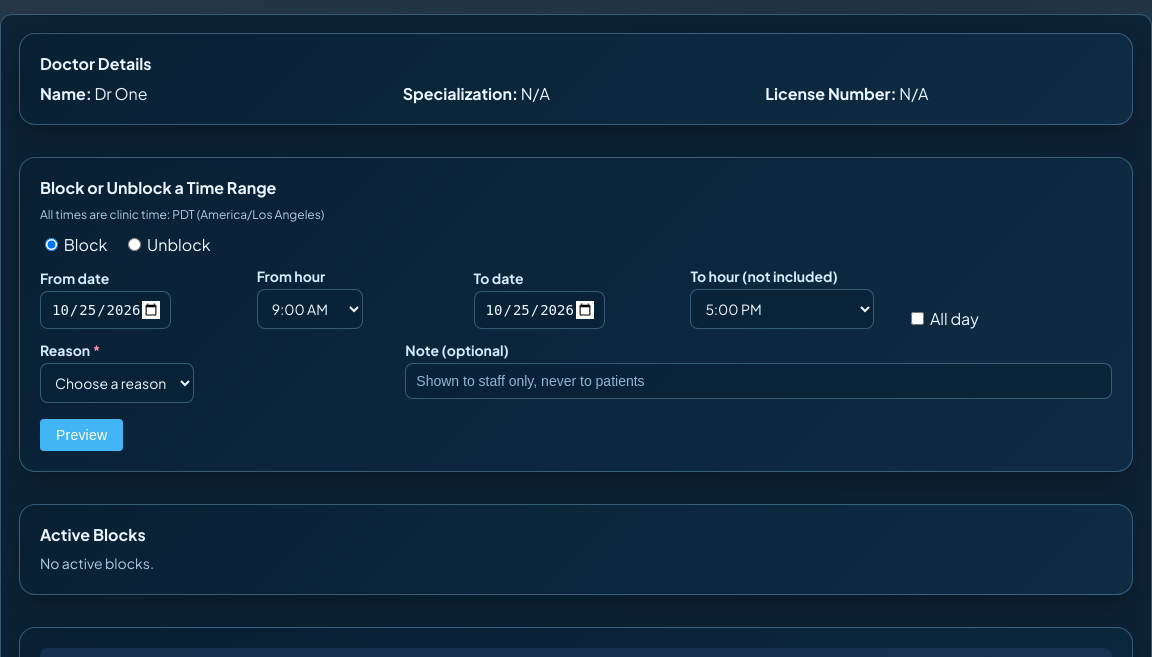
Test: ManageAvailabilityPage range block › needs the conflicts acknowledged before confirming, then applies with the fingerprint
The image size is (1152, 657).
Expected: the heading "Block or Unblock a Time Range" is shown, x1=40 y1=177 x2=276 y2=198
Type "2026-11-03" into the date field labelled "From date".
click(106, 310); type("2026-11-03")  # box x1=40 y1=291 x2=171 y2=329
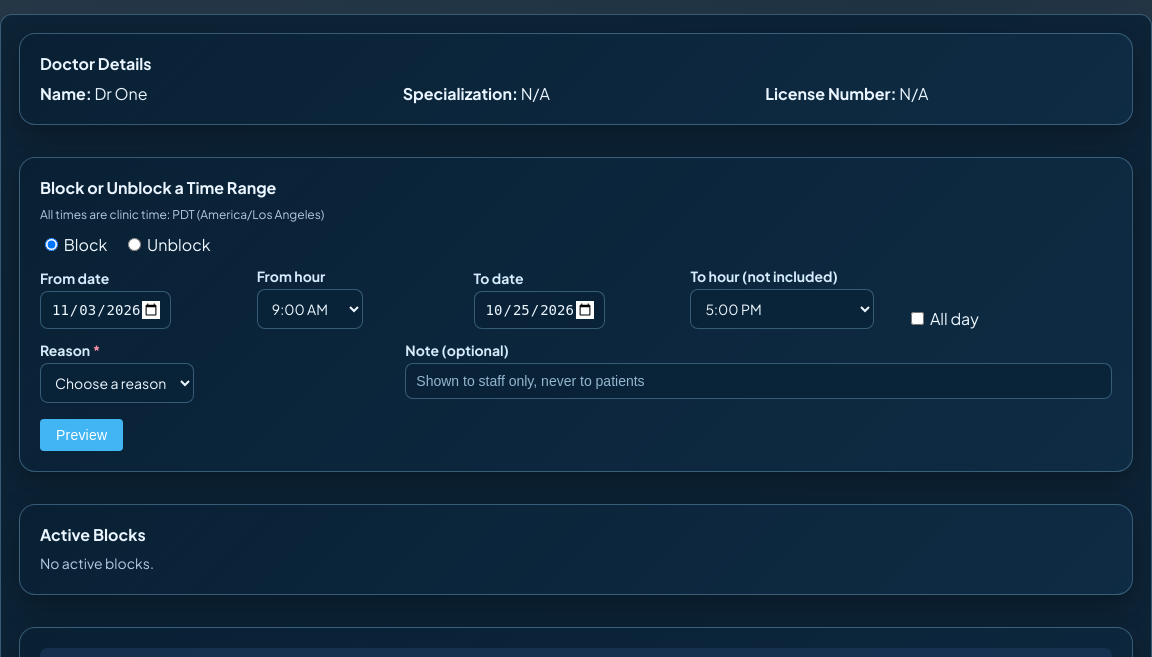
Select "9:00 AM" in the dropdown labelled "From hour" at {"x": 310, "y": 309}, box x1=257 y1=289 x2=363 y2=329
Type "2026-11-05" into the date field labelled "To date".
click(539, 310); type("2026-11-05")  # box x1=474 y1=291 x2=605 y2=329
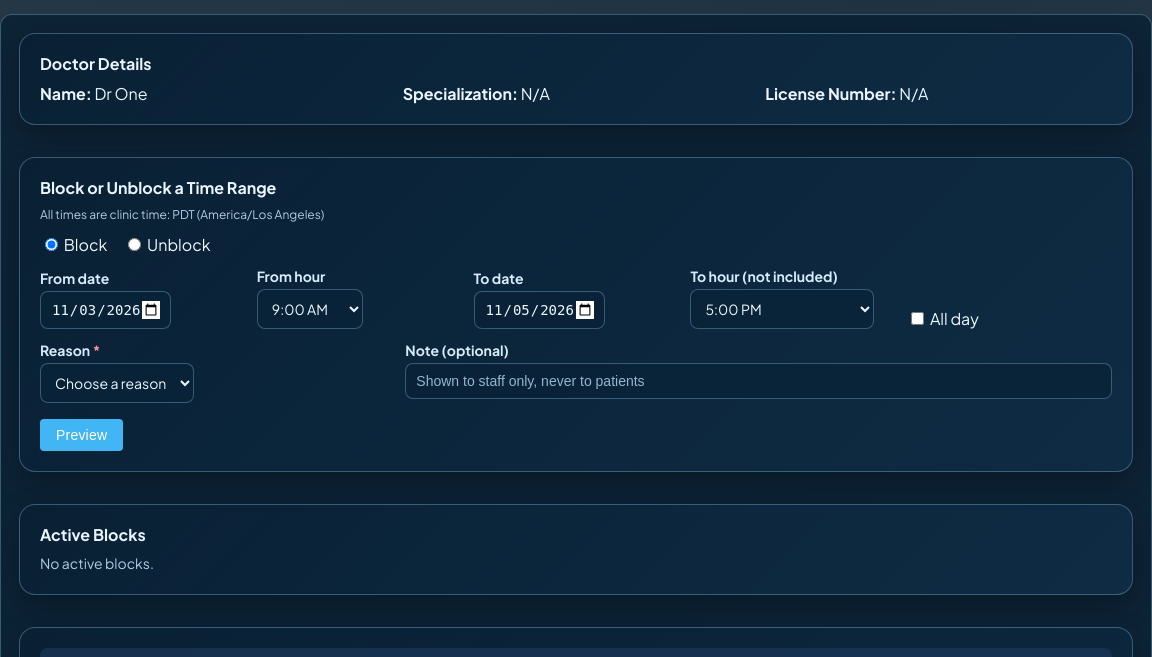
Select "5:00 PM" in the dropdown labelled "To hour (not included)" at {"x": 782, "y": 309}, box x1=690 y1=289 x2=874 y2=329
Select "Vacation" in the dropdown labelled "Reason *" at {"x": 117, "y": 383}, box x1=40 y1=363 x2=194 y2=403
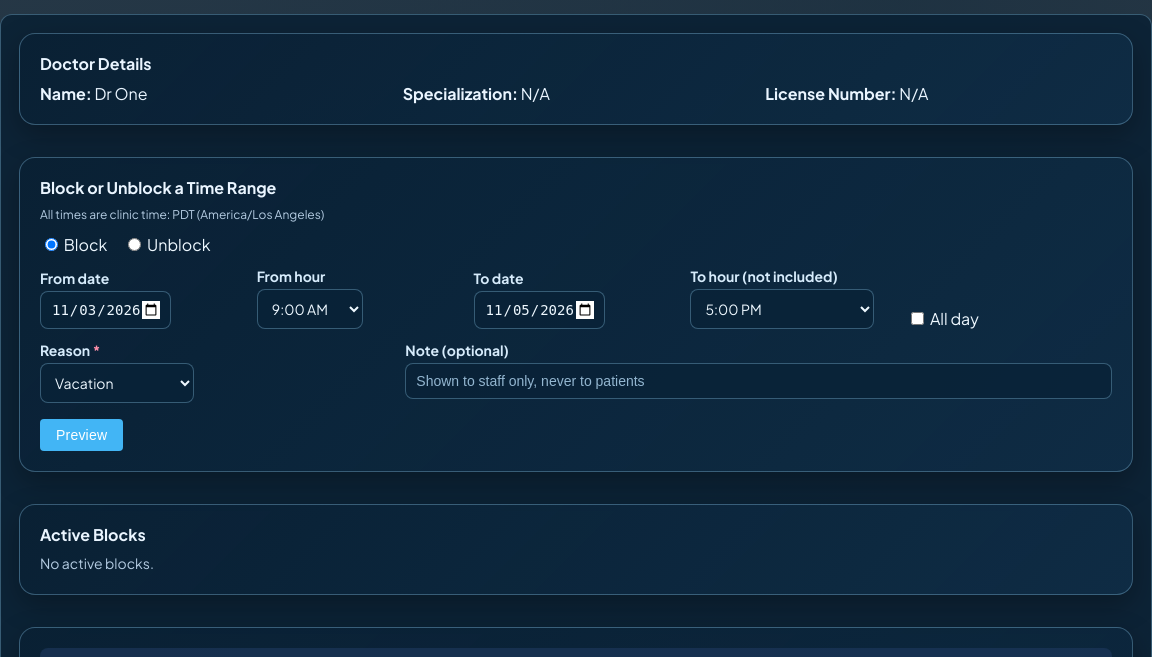
Click the button "Preview".
click(82, 435)  # box x1=40 y1=419 x2=123 y2=451
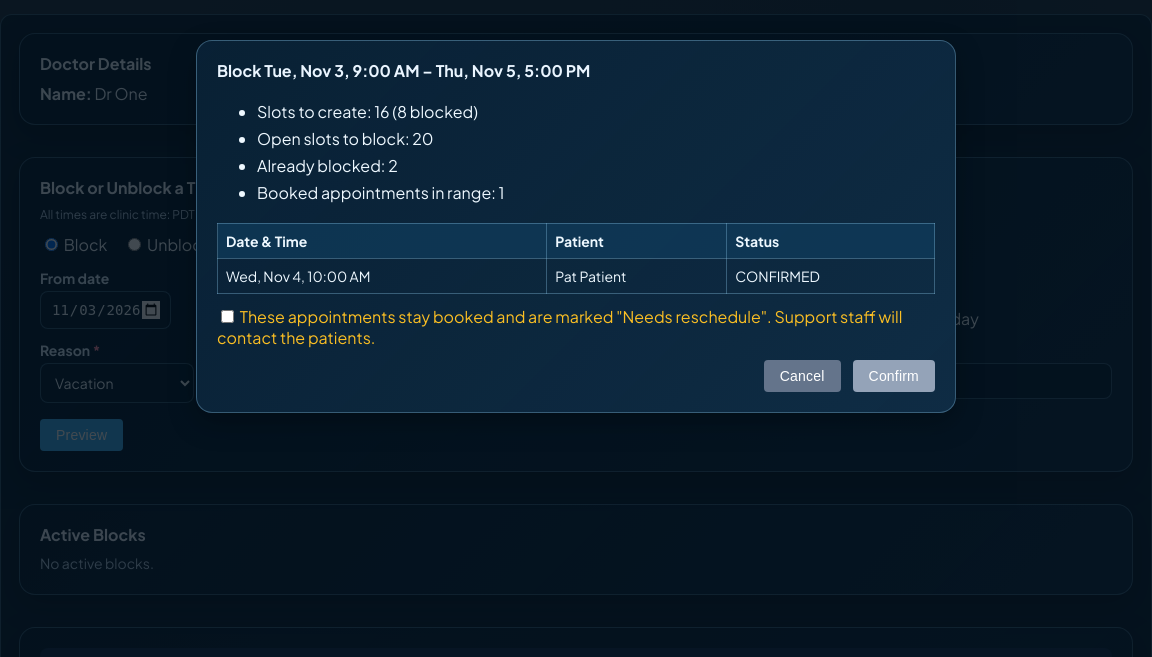
Now the list with test id "range-counts" shows "Slots to create: 16 (8 blocked)", box x1=257 y1=101 x2=504 y2=203
Now the list with test id "range-counts" shows "Open slots to block: 20", box x1=257 y1=101 x2=504 y2=203
Now the list with test id "range-counts" shows "Already blocked: 2", box x1=257 y1=101 x2=504 y2=203
Click the checkbox.
click(228, 316)  # box x1=221 y1=310 x2=234 y2=322
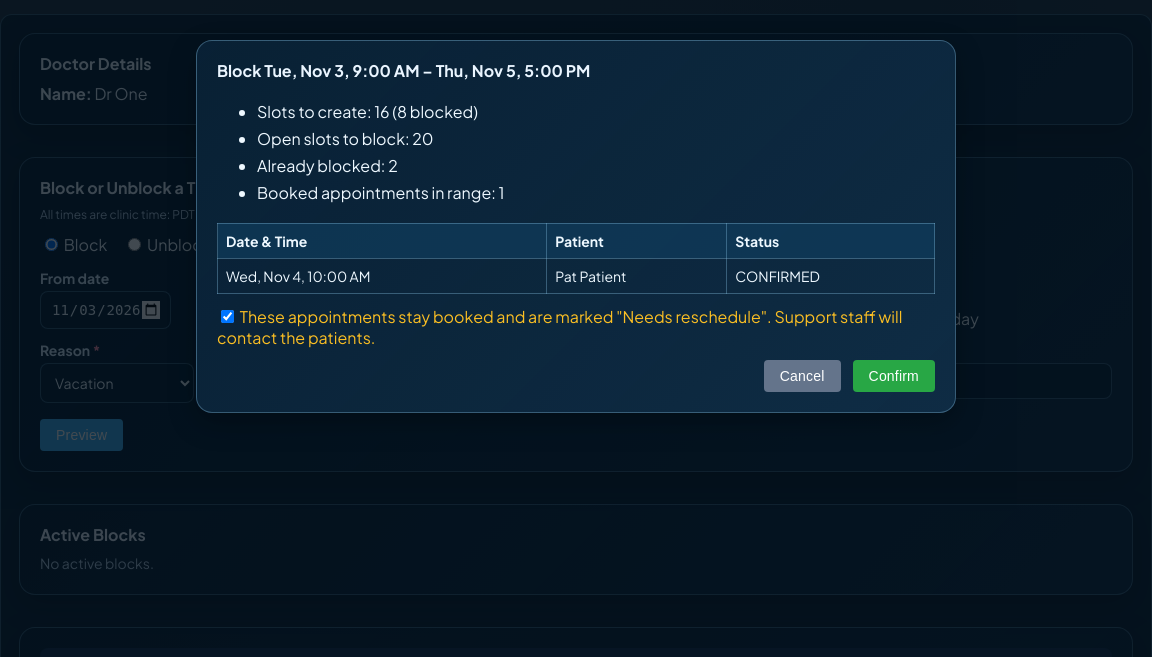
Now the button "Confirm" is enabled
Click the button "Confirm".
click(894, 376)  # box x1=853 y1=360 x2=935 y2=392
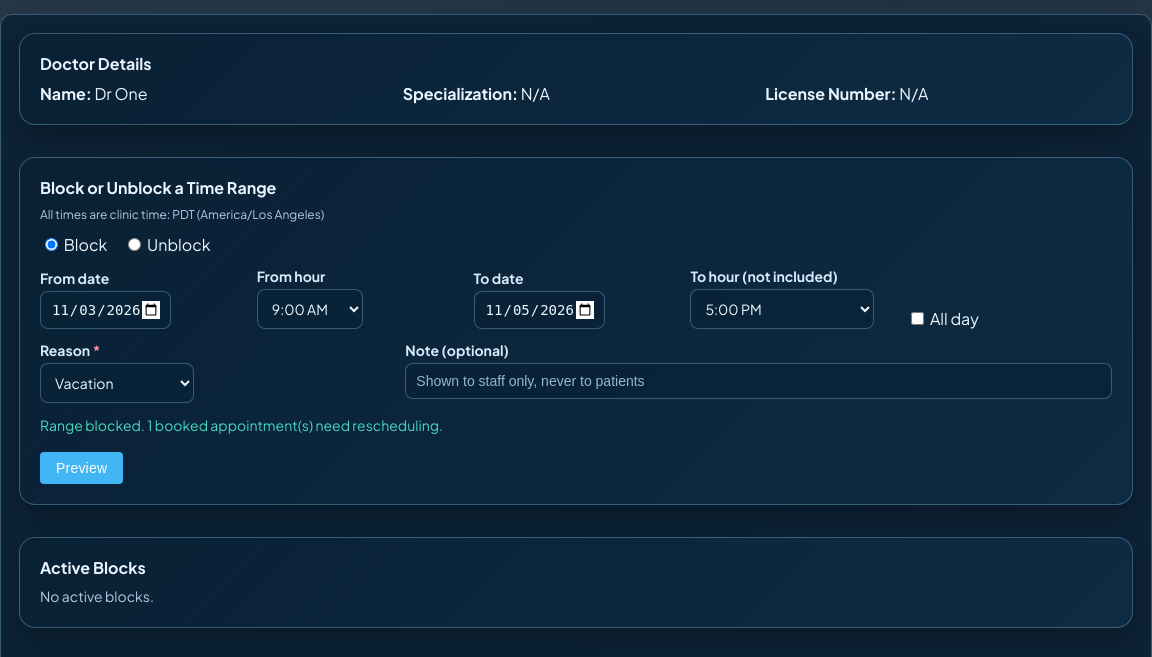
Now the message reads "Range blocked. 1 booked appointment(s) need rescheduling.", box x1=40 y1=416 x2=443 y2=434
